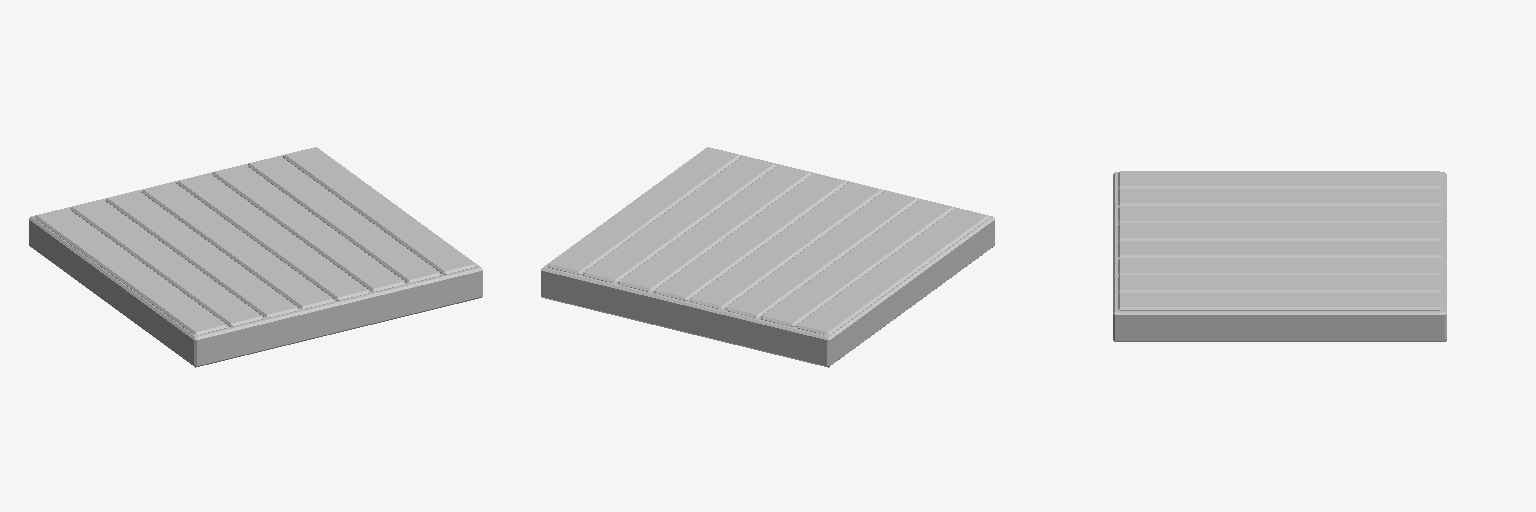
File: floor.obj
3 views of the same model, side by side, from view 1: azimuth 30°, elevation 25°; view 2: azimuth 150°, elevation 25°; view 3: azimuth 270°, elevation 25° (orthographic).
Parts seen in each view (by area): view 1: Plane.001, floor; view 2: Plane.001, floor; view 3: Plane.001, floor.
Part boxes in pixels (bbox=[...]): Plane.001: bbox=[34, 147, 475, 334]; floor: bbox=[29, 147, 482, 367]; Plane.001: bbox=[548, 147, 989, 334]; floor: bbox=[541, 147, 994, 367]; Plane.001: bbox=[1118, 171, 1441, 310]; floor: bbox=[1113, 172, 1446, 341].
Size of the model in its own units: 2 by 0.2165 by 2.